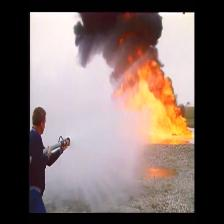fire: (138, 81, 184, 141)
smoke: (81, 15, 154, 55)
